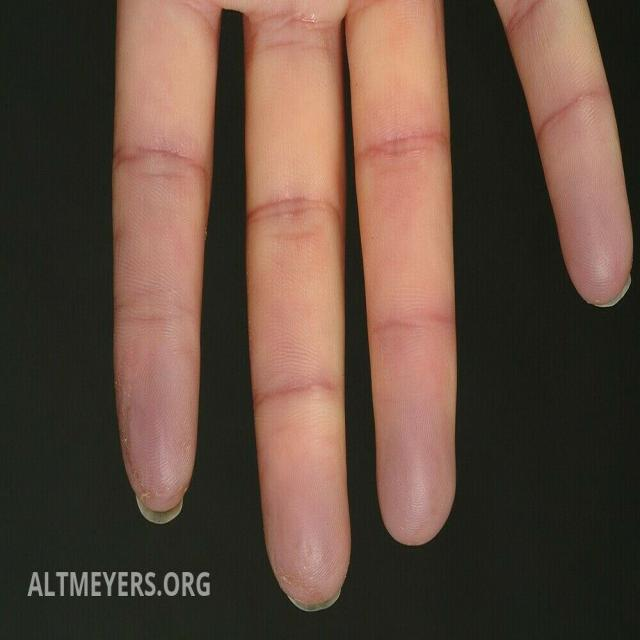raynauds: (357, 136, 477, 554), (102, 90, 215, 526), (246, 208, 364, 609), (540, 62, 638, 338)
